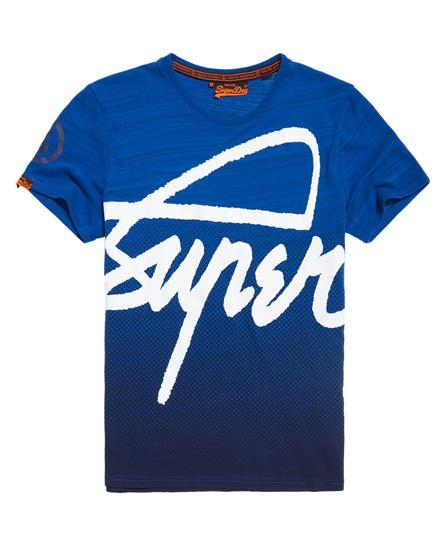teeshirt: (10, 47, 433, 483)
